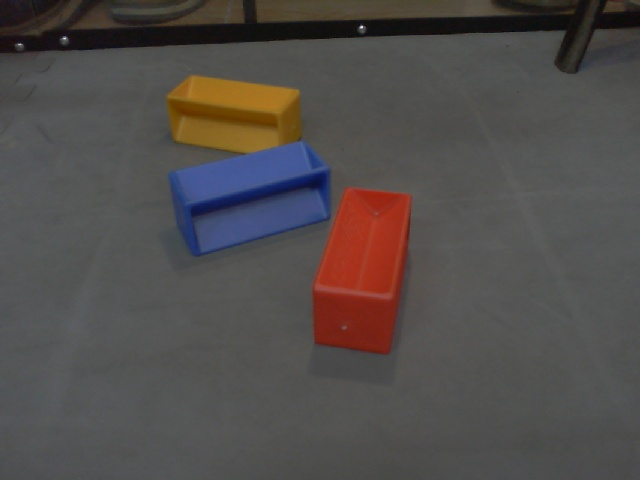BlueSample: (167, 139, 334, 257)
RedSample: (310, 185, 412, 355)
YellowSample: (165, 72, 303, 163)
